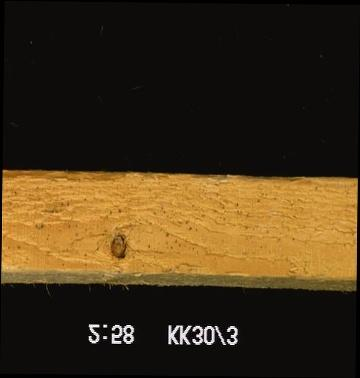wave: (0, 262, 354, 287), (191, 173, 356, 192), (2, 165, 126, 187)
